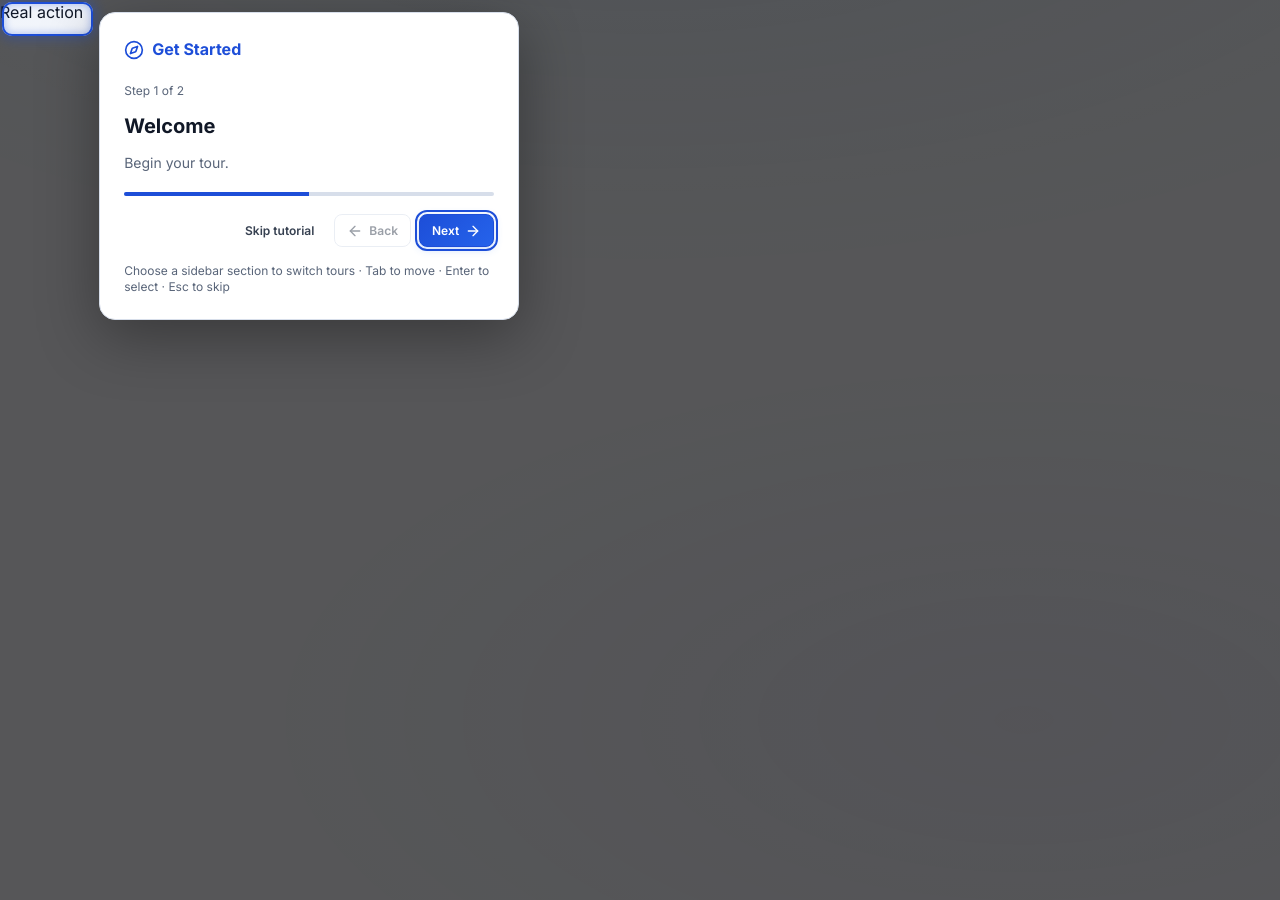
Test case: Get Started tutorial › supports forward, back, and finish without activating the highlighted control
Later steps or results of the test are not shown.
expect the button "Back" is disabled: met, box [334,214,411,247]
Press Enter
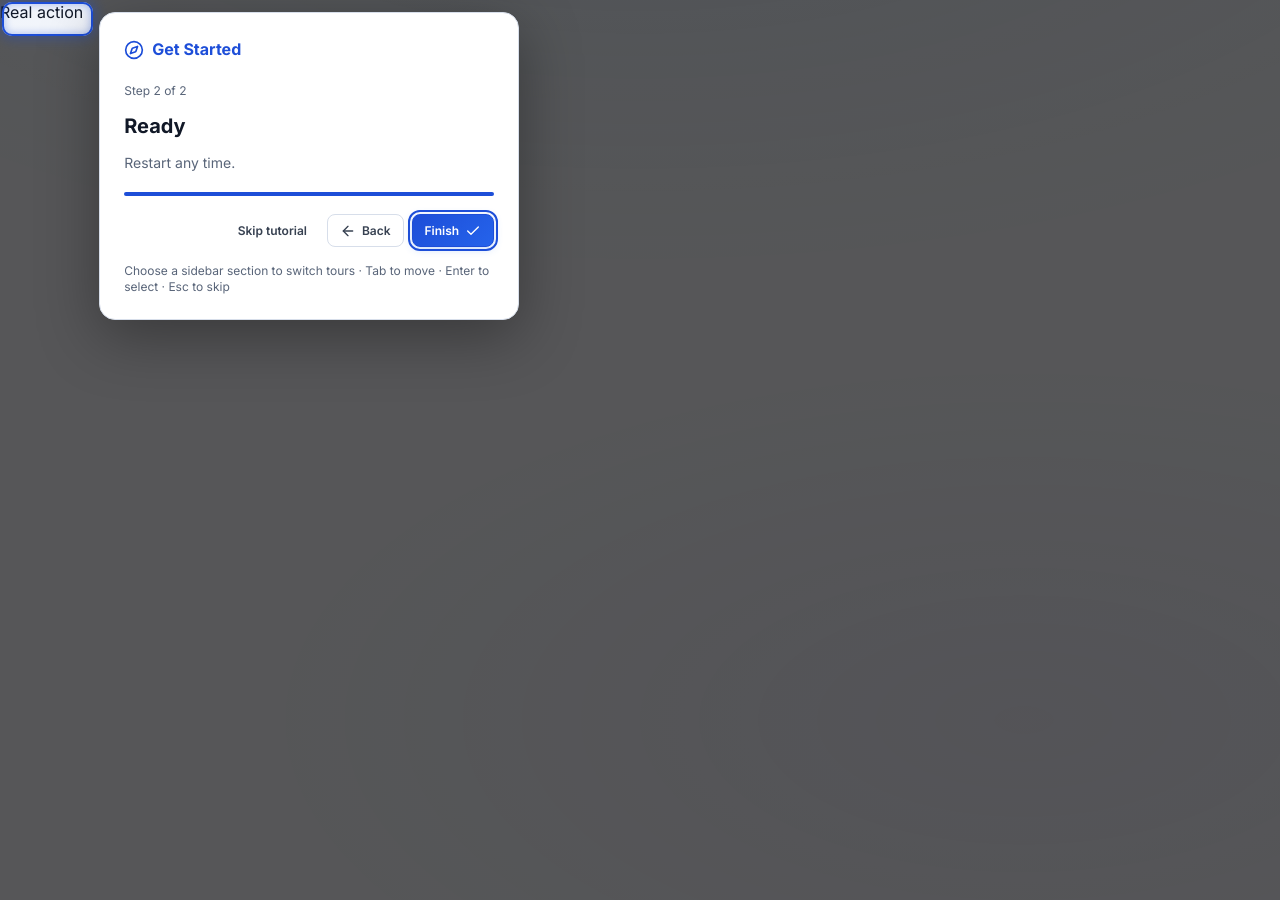
expect the text "Step 2 of 2" is shown: met, box [124,83,186,98]
Click the button "Back" at (365,231), box [327,214,404,247]
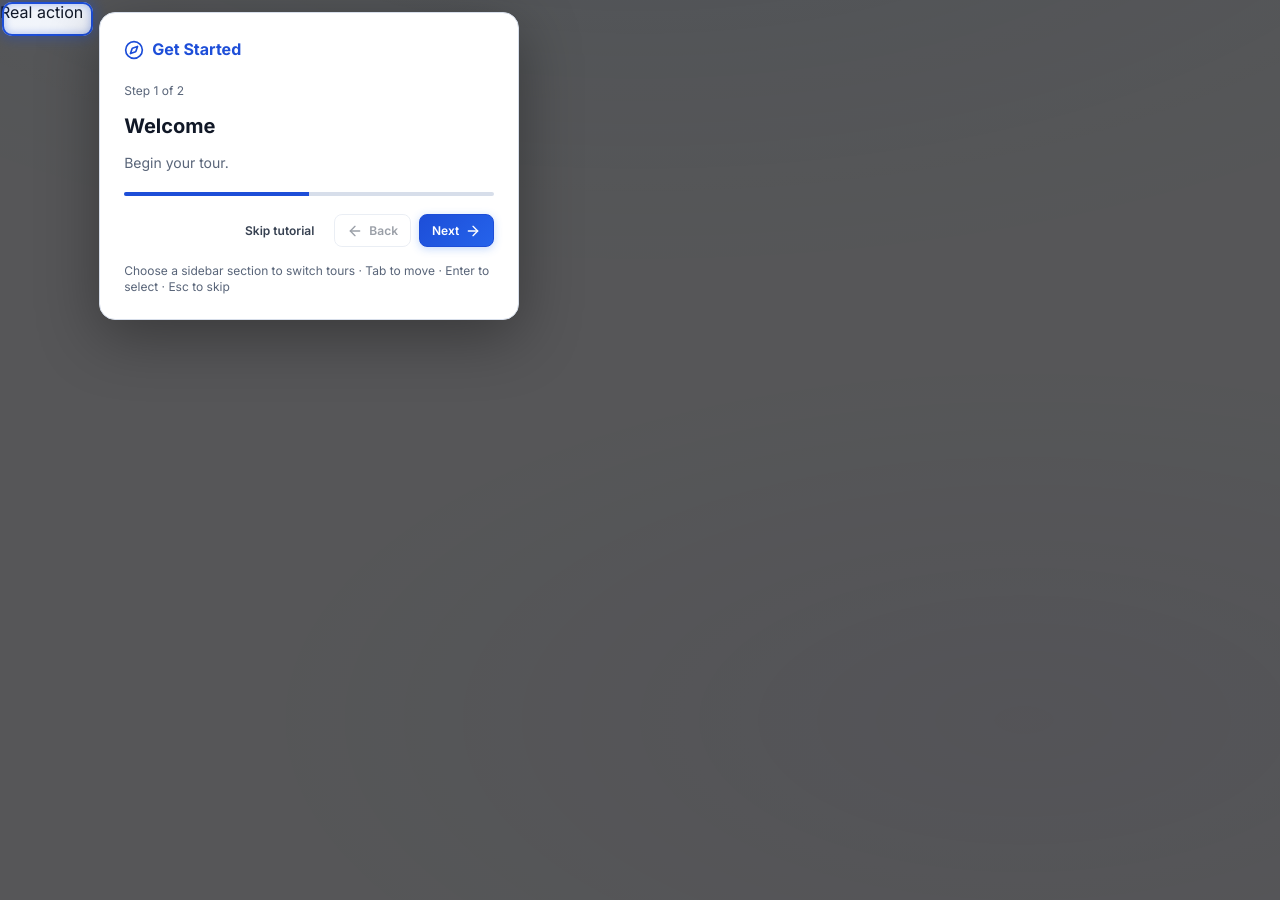
expect the text "Step 1 of 2" is shown: met, box [124,83,184,98]
